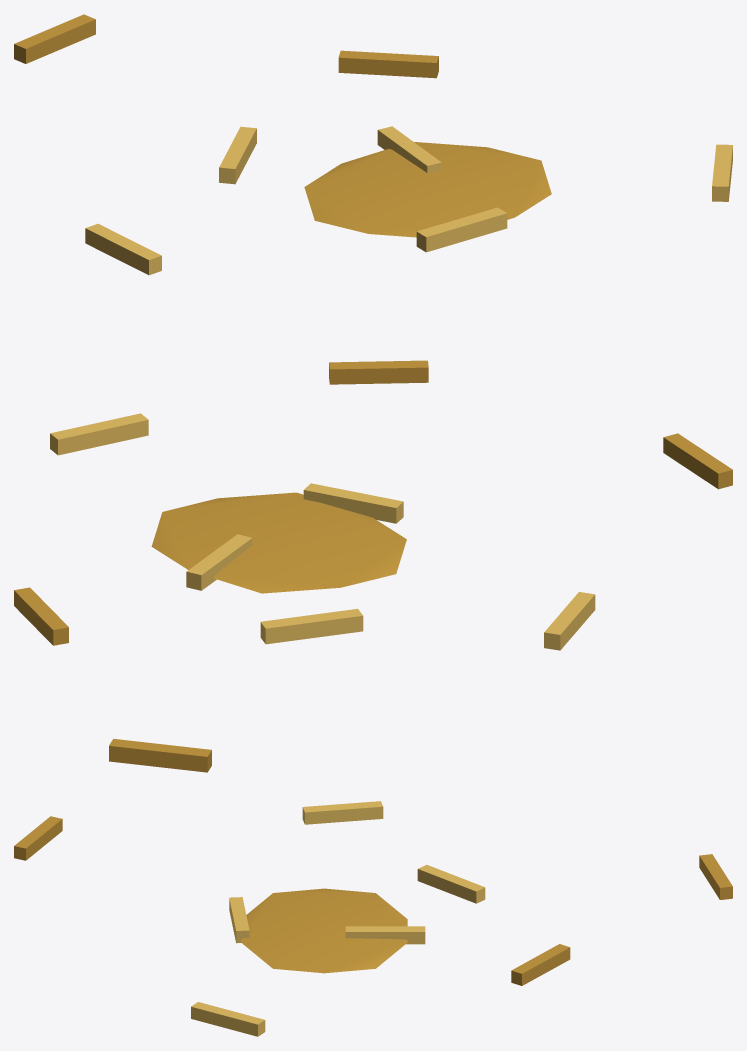
Rendered from fry_bits.glb.
The picture shows the model from 3 angles, top to bottom: view 1: azimuth 30°, elevation 25°; view 2: azimuth 150°, elevation 25°; view 3: azimuth 270°, elevation 25°; orthographic projection. The views are drawn at different scales.
Visible parts, largest first — view 1: fry_bits; view 2: fry_bits; view 3: fry_bits.
Boxes of the visible parts, bbox=[...] form: fry_bits: bbox=[14, 14, 732, 384]; fry_bits: bbox=[14, 413, 732, 772]; fry_bits: bbox=[14, 801, 732, 1036].
Bounding box in the file's own units: 0.8652 × 0.025 × 1.18.
